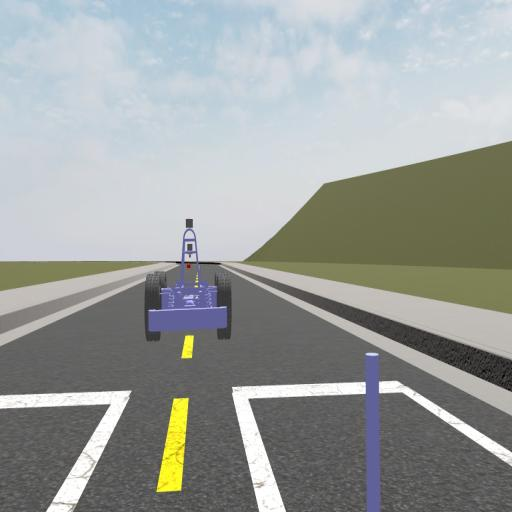ERP-42: (144, 219, 233, 342)
